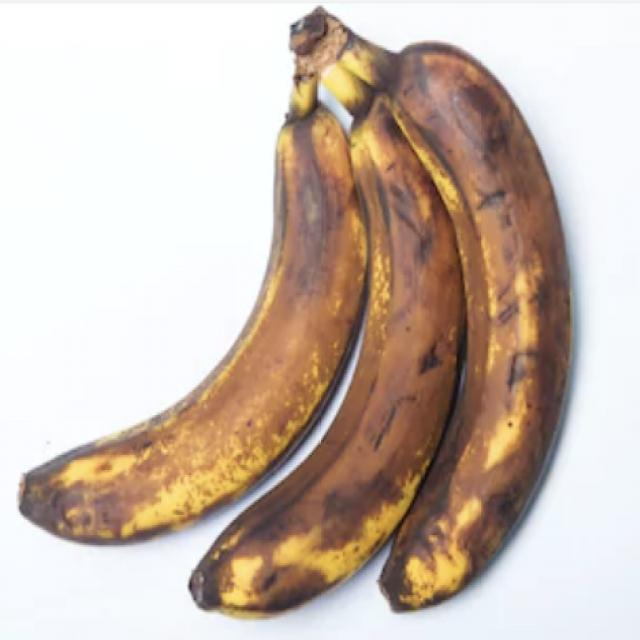rotten-banana: (202, 40, 463, 631), (26, 88, 358, 547), (387, 28, 577, 632)
